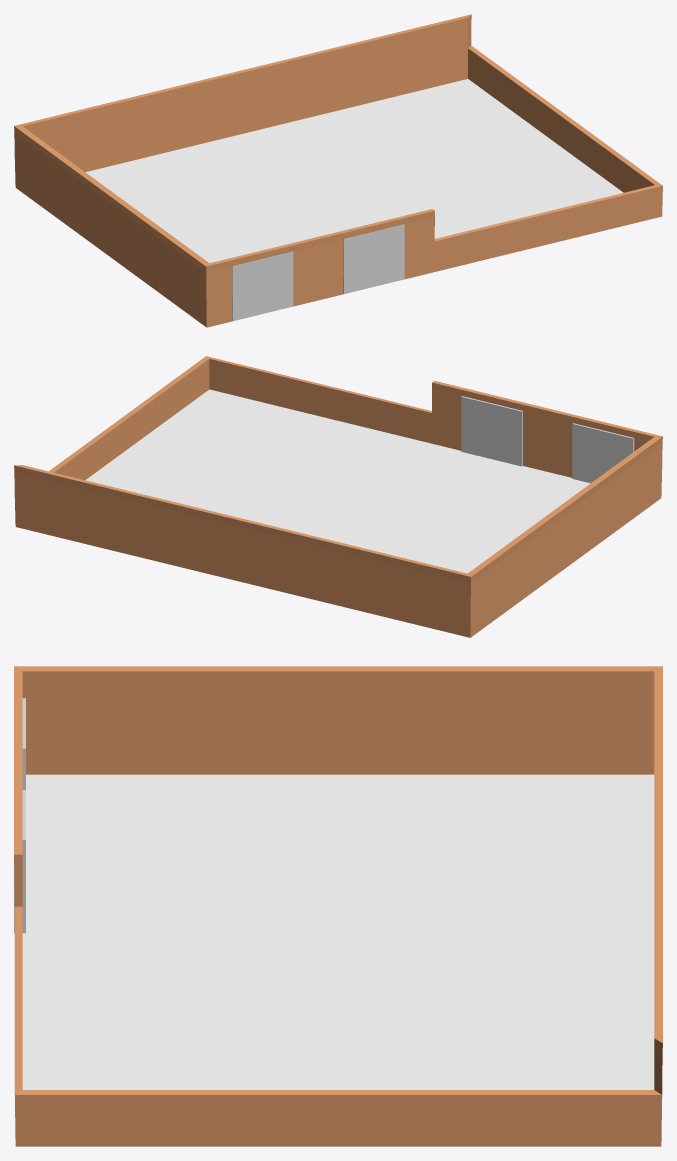
File: store.glb
3 views of the same model, one above another, from view 1: azimuth 30°, elevation 25°; view 2: azimuth 150°, elevation 25°; view 3: azimuth 270°, elevation 25° (orthographic). The views are drawn at different scales.
Parts seen in each view (by area): view 1: Plane.001, CTRL_Hole.001, CTRL_Hole; view 2: Plane.001, CTRL_Hole, CTRL_Hole.001; view 3: Plane.001.
Boxes of the visible parts, x1,y1,x2,y2 form: Plane.001: (14, 14, 662, 327); CTRL_Hole.001: (232, 251, 293, 321); CTRL_Hole: (343, 224, 404, 293); Plane.001: (14, 356, 662, 637); CTRL_Hole: (461, 396, 522, 466); CTRL_Hole.001: (572, 423, 634, 483); Plane.001: (14, 666, 662, 1146).
Bounding box in the file's own units: 22.6 × 2.92 × 16.44.
